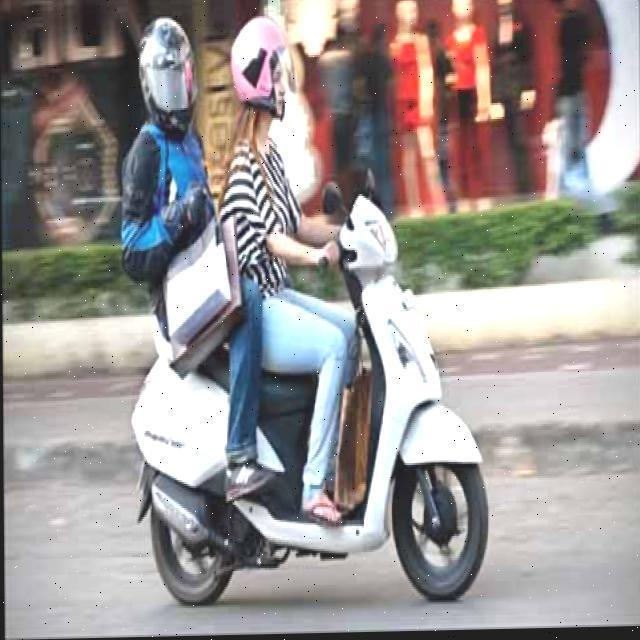Helmet: (224, 13, 293, 124)
